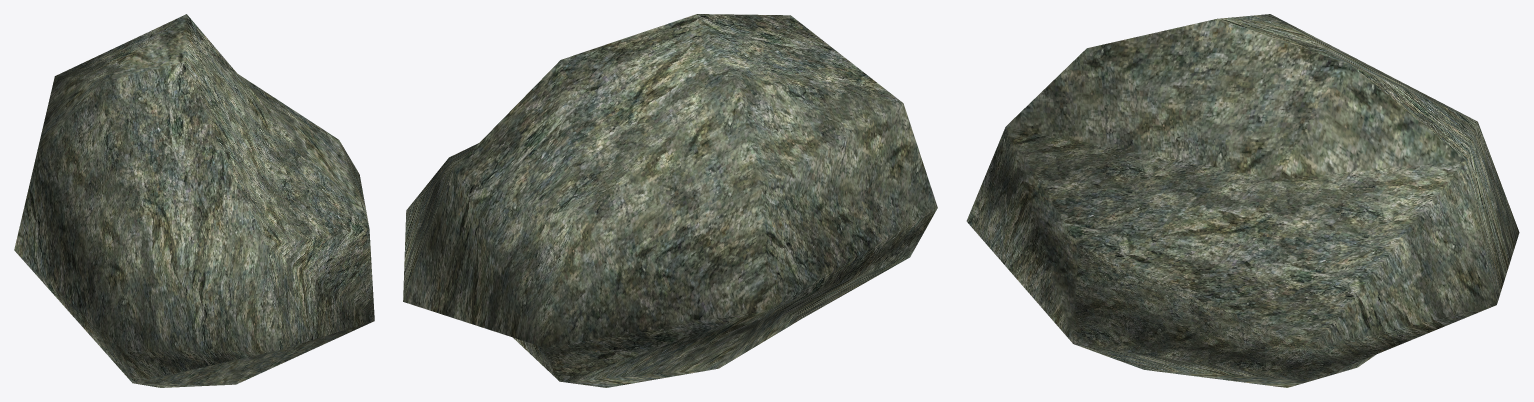
Rendered from mtns_rock_grey_l1.fbx.
3 renders of one model, left to right at view 1: azimuth 30°, elevation 25°; view 2: azimuth 150°, elevation 25°; view 3: azimuth 270°, elevation 25°, orthographic. The views are drawn at different scales.
Parts seen in each view (by area): view 1: mesh_node; view 2: mesh_node; view 3: mesh_node.
Boxes of the visible parts, x1=… form: mesh_node: x1=14, y1=14, x2=374, y2=387; mesh_node: x1=403, y1=14, x2=937, y2=387; mesh_node: x1=966, y1=14, x2=1519, y2=387.
Size of the model in its own units: 1.52 by 1.17 by 1.89.
1 material, 1 textured.
